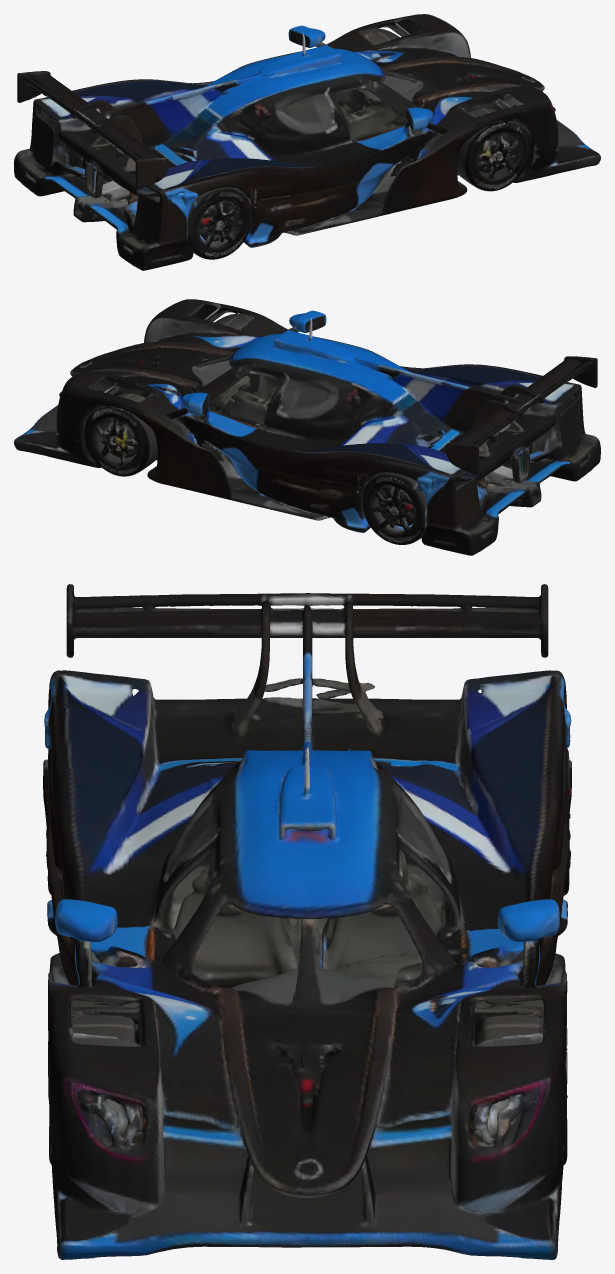
File: lmp2.glb
3 renders of one model, top to bottom at view 1: azimuth 30°, elevation 25°; view 2: azimuth 150°, elevation 25°; view 3: azimuth 270°, elevation 25°, orthographic. The views are drawn at different scales.
Parts seen in each view (by area): view 1: tripo_node_f2b78348-73f6-4785-b2e6-5b4192cba616; view 2: tripo_node_f2b78348-73f6-4785-b2e6-5b4192cba616; view 3: tripo_node_f2b78348-73f6-4785-b2e6-5b4192cba616.
Part boxes in pixels (bbox=[...]): tripo_node_f2b78348-73f6-4785-b2e6-5b4192cba616: bbox=[14, 14, 600, 270]; tripo_node_f2b78348-73f6-4785-b2e6-5b4192cba616: bbox=[14, 299, 600, 555]; tripo_node_f2b78348-73f6-4785-b2e6-5b4192cba616: bbox=[43, 584, 571, 1259].
Bounding box in the file's own units: 1 × 0.2981 × 0.4944.
1 material, 1 textured.
